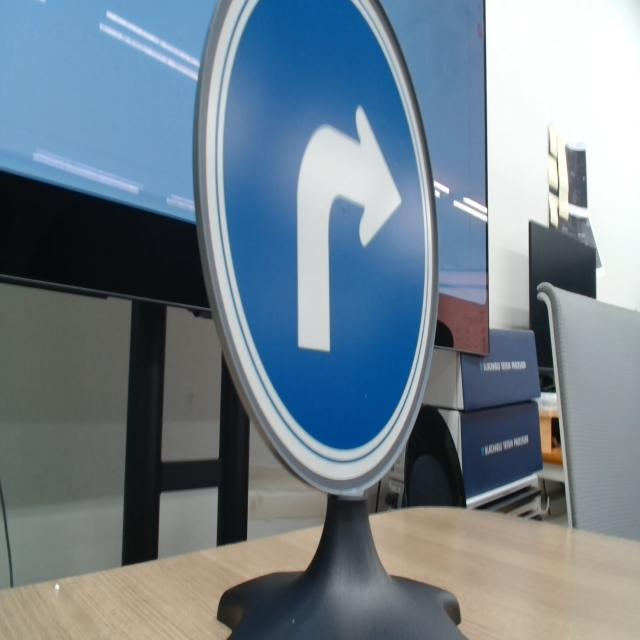right_dierection: (180, 0, 444, 495)
